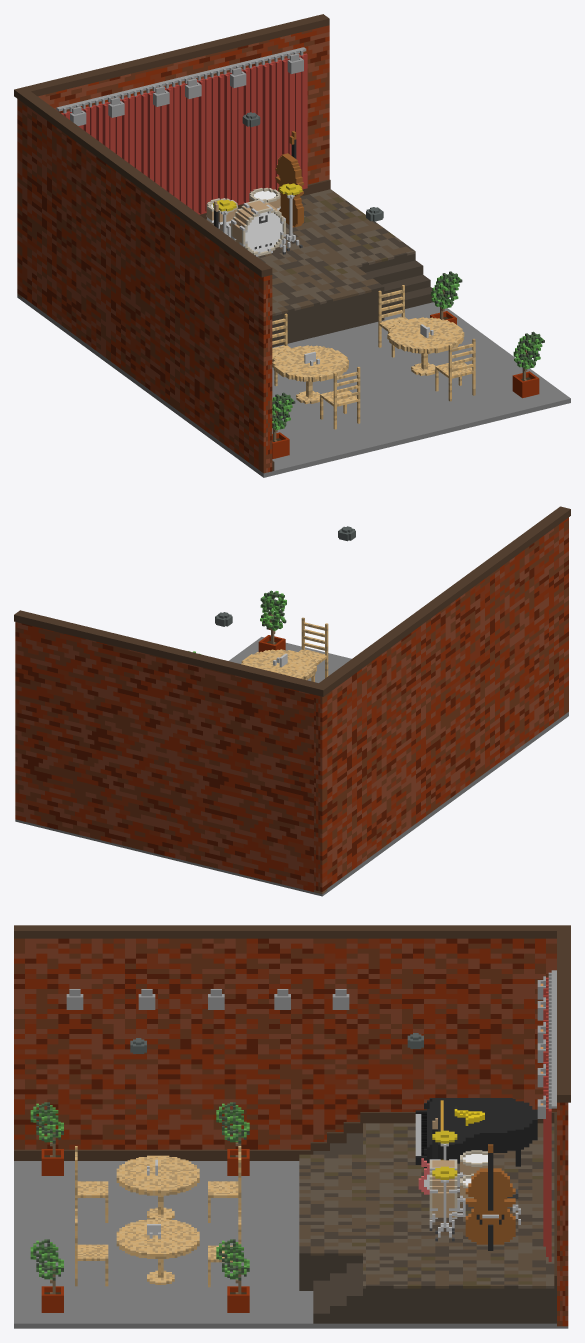
The model's file is ClubRoom.glb.
3 renders of one model, top to bottom at view 1: azimuth 30°, elevation 25°; view 2: azimuth 150°, elevation 25°; view 3: azimuth 270°, elevation 25°, orthographic. The views are drawn at different scales.
Parts seen in each view (by area): view 1: Instrumentos; view 2: Instrumentos; view 3: Instrumentos.
Boxes of the visible parts, x1=… form: Instrumentos: x1=14, y1=14, x2=570, y2=477; Instrumentos: x1=14, y1=506, x2=570, y2=896; Instrumentos: x1=14, y1=925, x2=570, y2=1328.
Size of the model in its own units: 14.5 by 9.3 by 20.1.
1 material, 1 textured.
